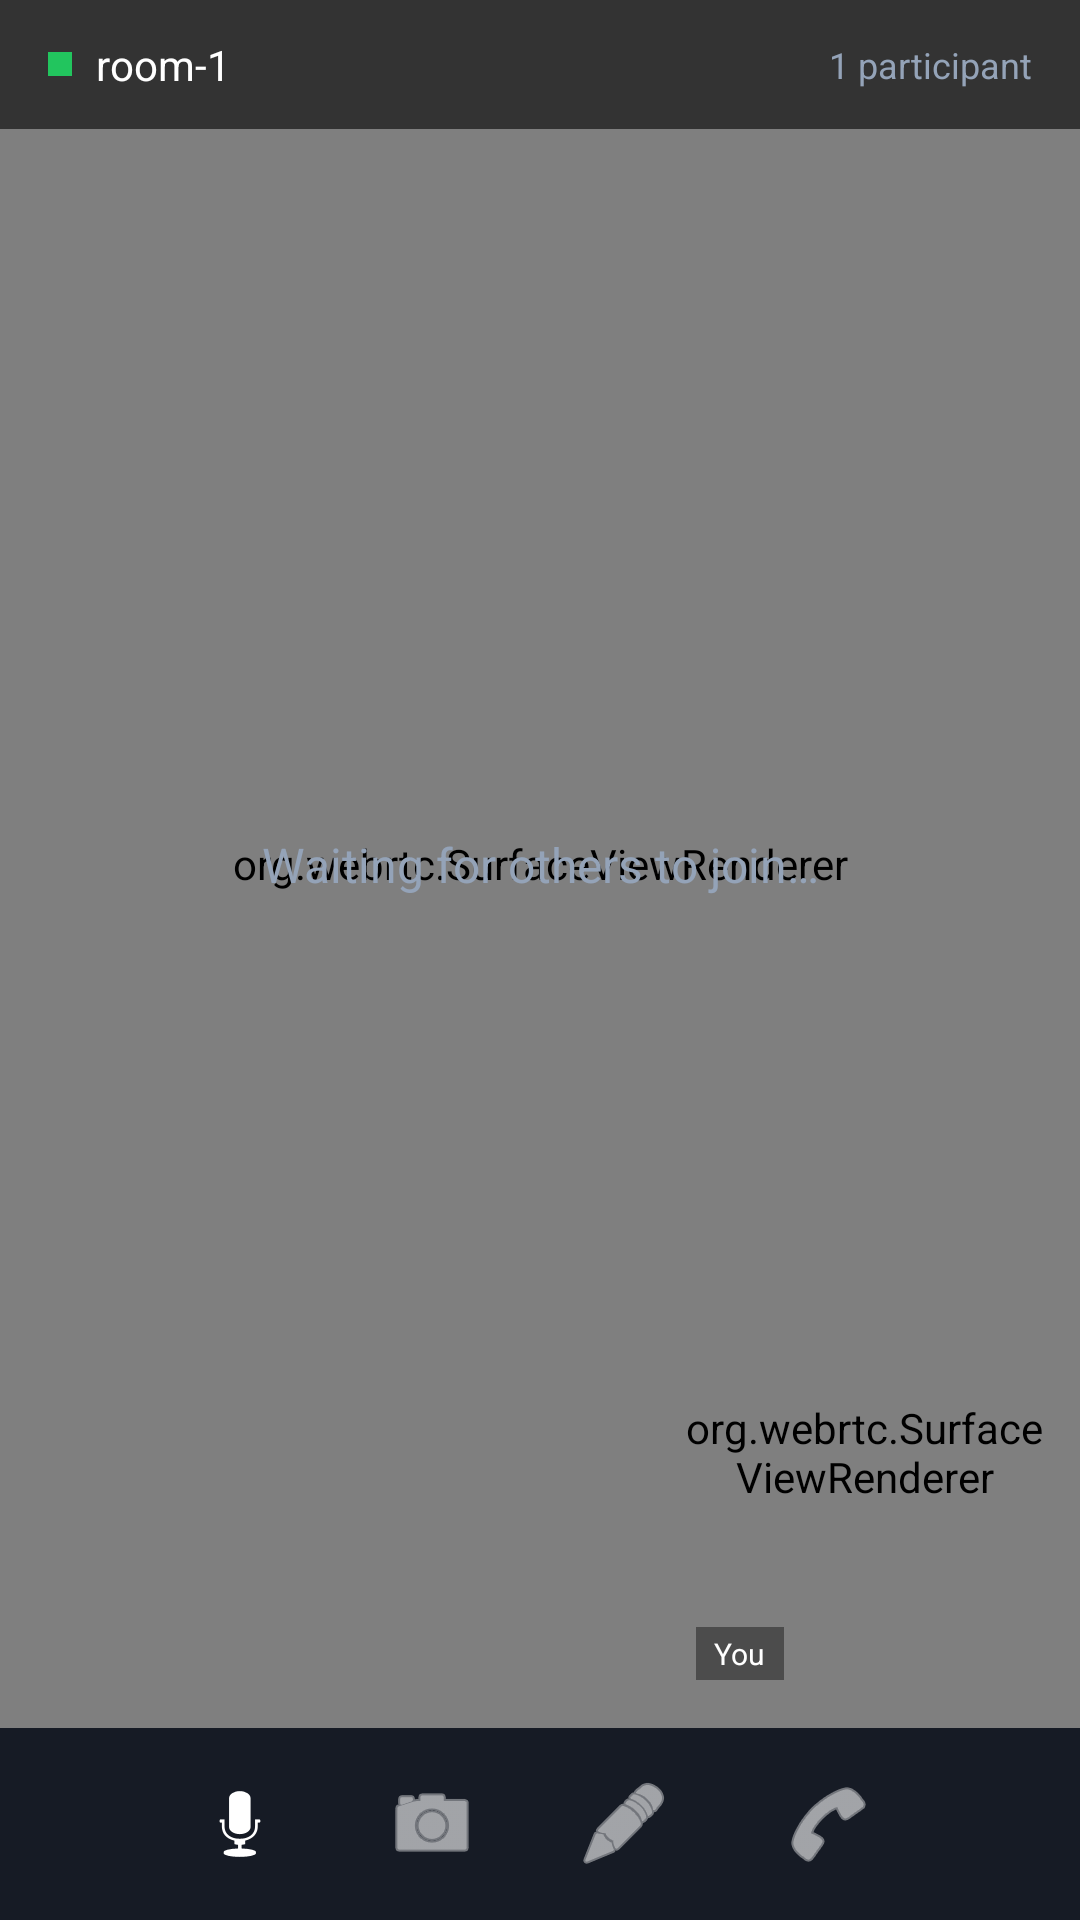

Named icons in this screenshot (1080x1920) and their bounding boxes, (x1=x1, y1=y1, x2=x2, y2=y2):
Hang up: (x1=791, y1=1787, x2=866, y2=1862)
Toggle camera: (x1=395, y1=1793, x2=469, y2=1852)
Toggle microphone: (x1=219, y1=1791, x2=261, y2=1857)
